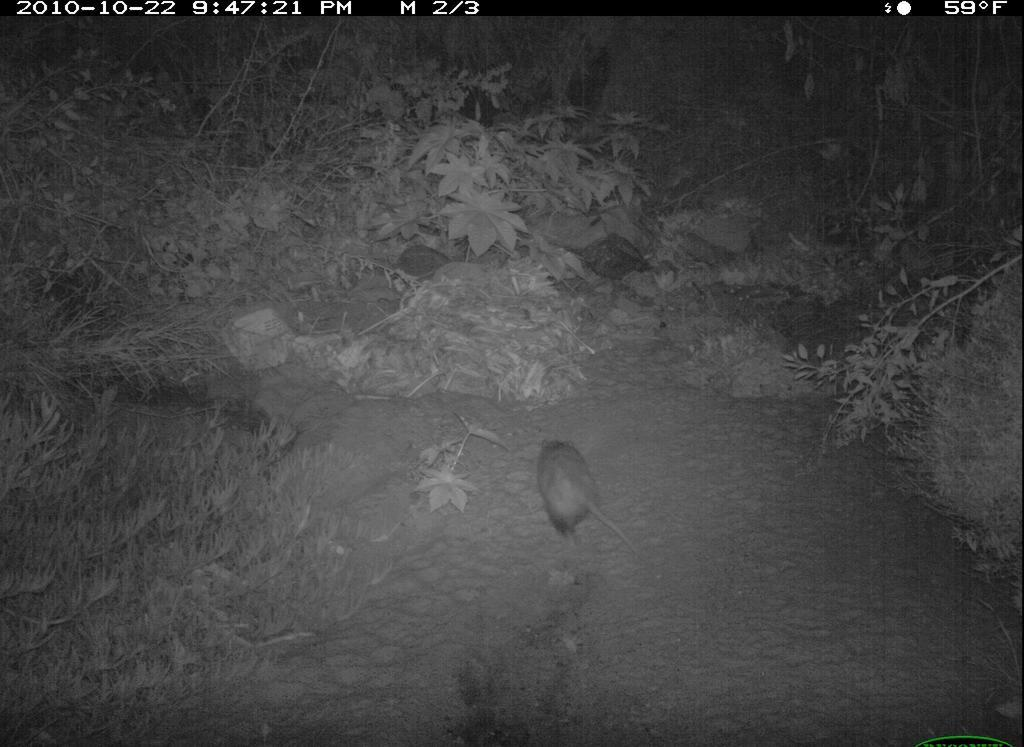opossum: (529, 420, 641, 561)
